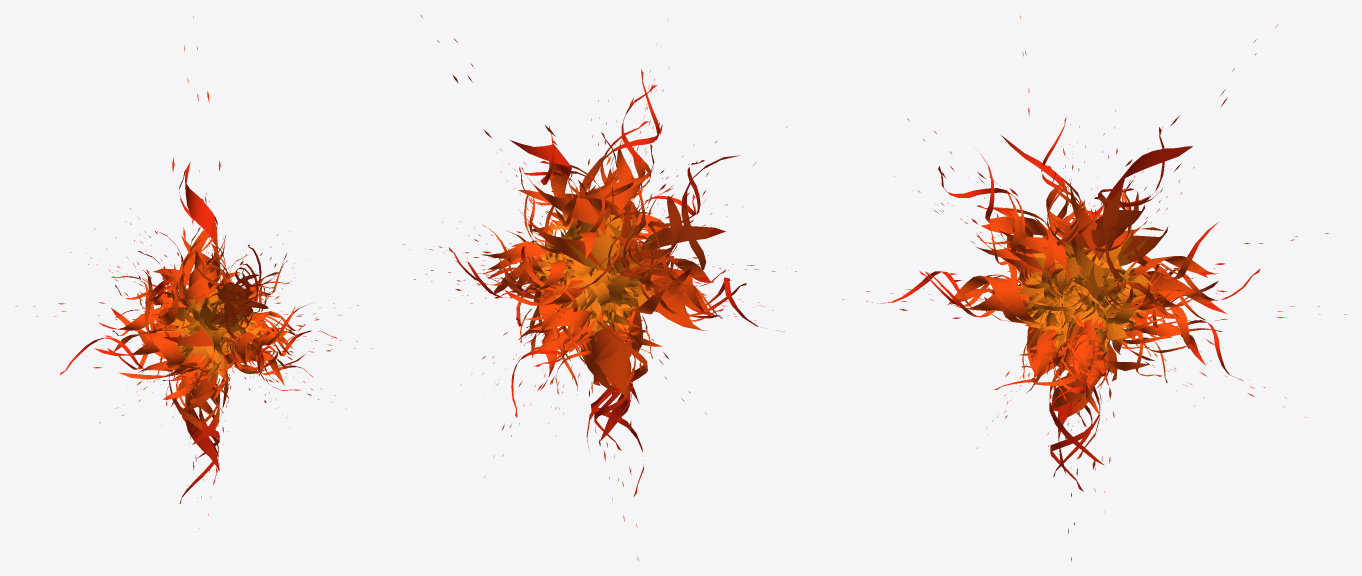
Rendered from fireball_17.obj.
3 views of the same model, side by side, from view 1: azimuth 30°, elevation 25°; view 2: azimuth 150°, elevation 25°; view 3: azimuth 270°, elevation 25° (orthographic). The views are drawn at different scales.
Visible parts, largest first — view 1: Fireball; view 2: Fireball; view 3: Fireball.
Part boxes in pixels (x1,y1,x2,y2): Fireball: (15, 16, 372, 528); Fireball: (402, 15, 796, 560); Fireball: (842, 15, 1346, 561).
Bounding box in the file's own units: 1.71 × 2.28 × 1.76.
